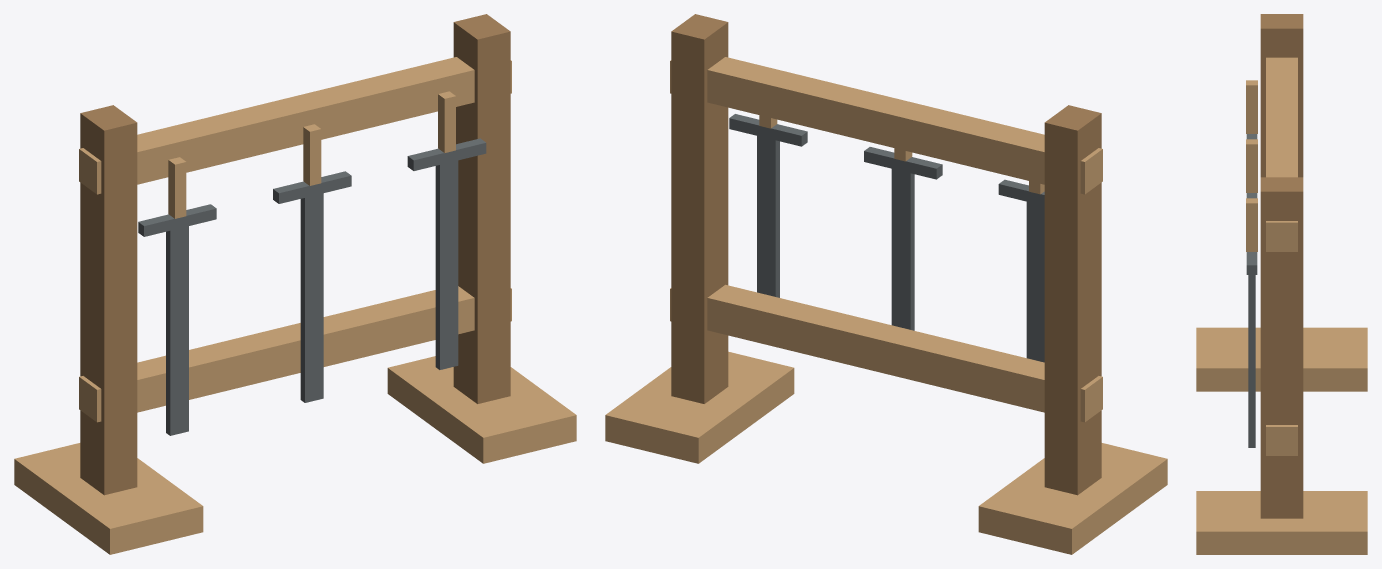
File: sword-rack.glb
3 renders of one model, left to right at view 1: azimuth 30°, elevation 25°; view 2: azimuth 150°, elevation 25°; view 3: azimuth 270°, elevation 25°, orthographic. The views are drawn at different scales.
Parts seen in each view (by area): view 1: sword-rack; view 2: sword-rack; view 3: sword-rack.
Part boxes in pixels (<box>): sword-rack: <box>14,14,576,554</box>; sword-rack: <box>605,14,1167,554</box>; sword-rack: <box>1196,14,1367,554</box>.
Size of the model in its own units: 2.25 by 1.8 by 0.7999.
